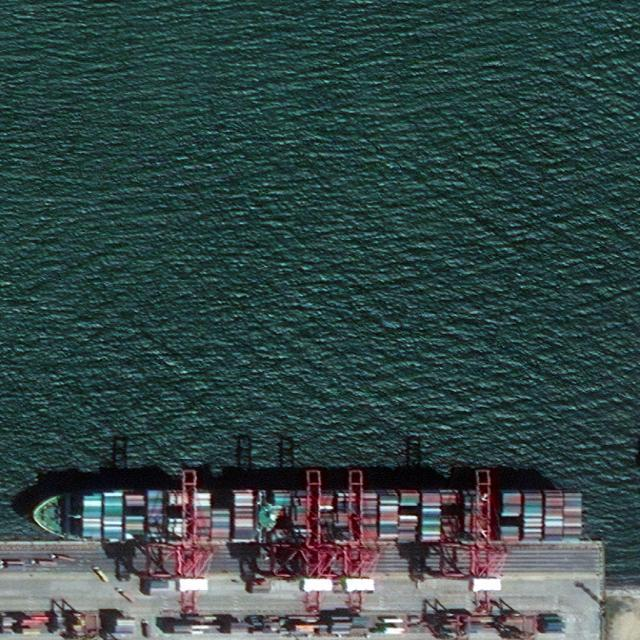Container Ship: (32, 490, 582, 543)
